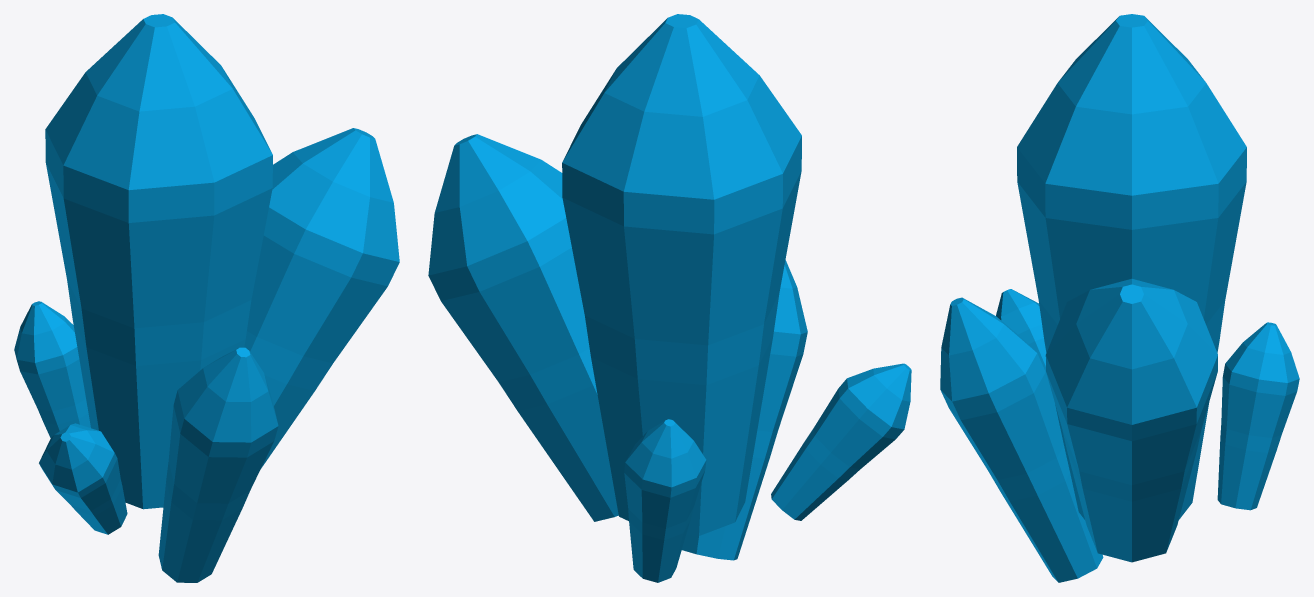
File: krystal_02.fbx
3 renders of one model, left to right at view 1: azimuth 30°, elevation 25°; view 2: azimuth 150°, elevation 25°; view 3: azimuth 270°, elevation 25°, orthographic. The views are drawn at different scales.
Visible parts, largest first — view 1: krystal01; view 2: krystal01; view 3: krystal01.
Boxes of the visible parts, x1,y1,x2,y2 form: krystal01: [14, 14, 399, 582]; krystal01: [428, 14, 911, 582]; krystal01: [940, 14, 1299, 582].
Size of the model in its own units: 2.38 by 3.16 by 1.85.
